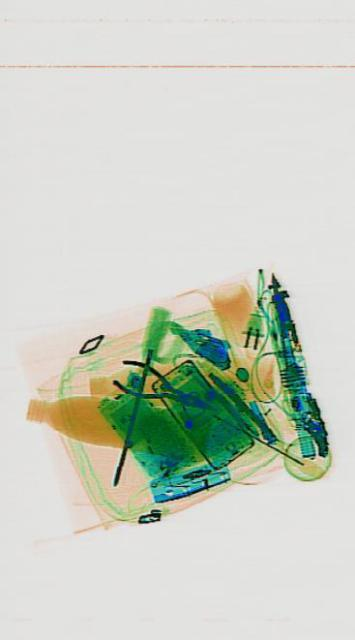Pliers: (110, 349, 215, 429)
